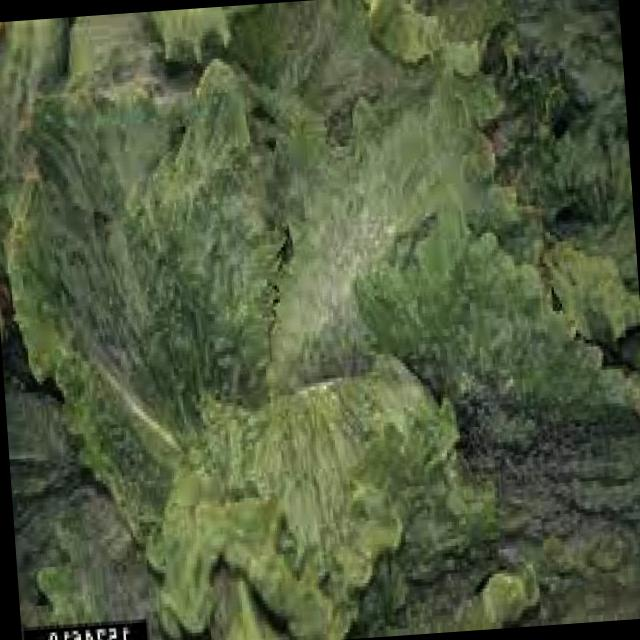Powdery_mildew: (184, 117, 473, 426)
